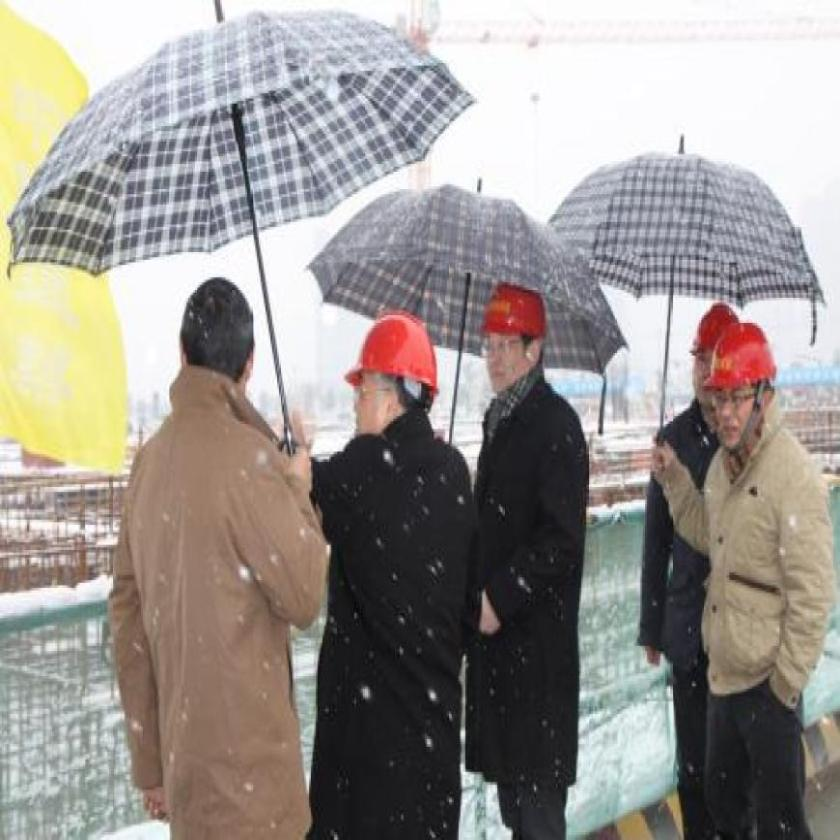Con_casco: (339, 303, 443, 448), (712, 318, 785, 468), (479, 266, 555, 403), (686, 297, 740, 407)
Sin_casco: (177, 272, 262, 396)
